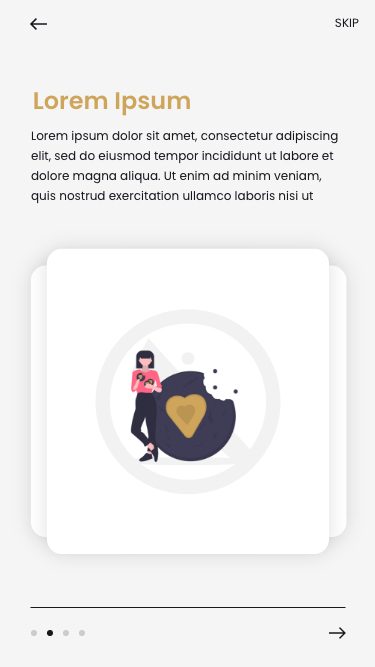Icon: (329, 626, 347, 640), (30, 18, 48, 31)
Image: (96, 309, 281, 495)
PageIndicator: (31, 629, 87, 637)
Text: (31, 131, 339, 205), (34, 92, 191, 117), (334, 18, 359, 29)
